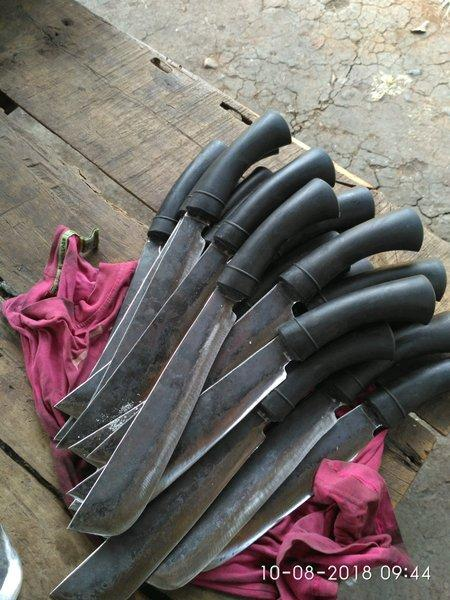facao: (63, 176, 349, 538), (36, 320, 405, 600), (141, 314, 450, 600), (64, 106, 305, 448), (84, 268, 436, 495), (173, 355, 450, 584), (100, 138, 237, 375)
